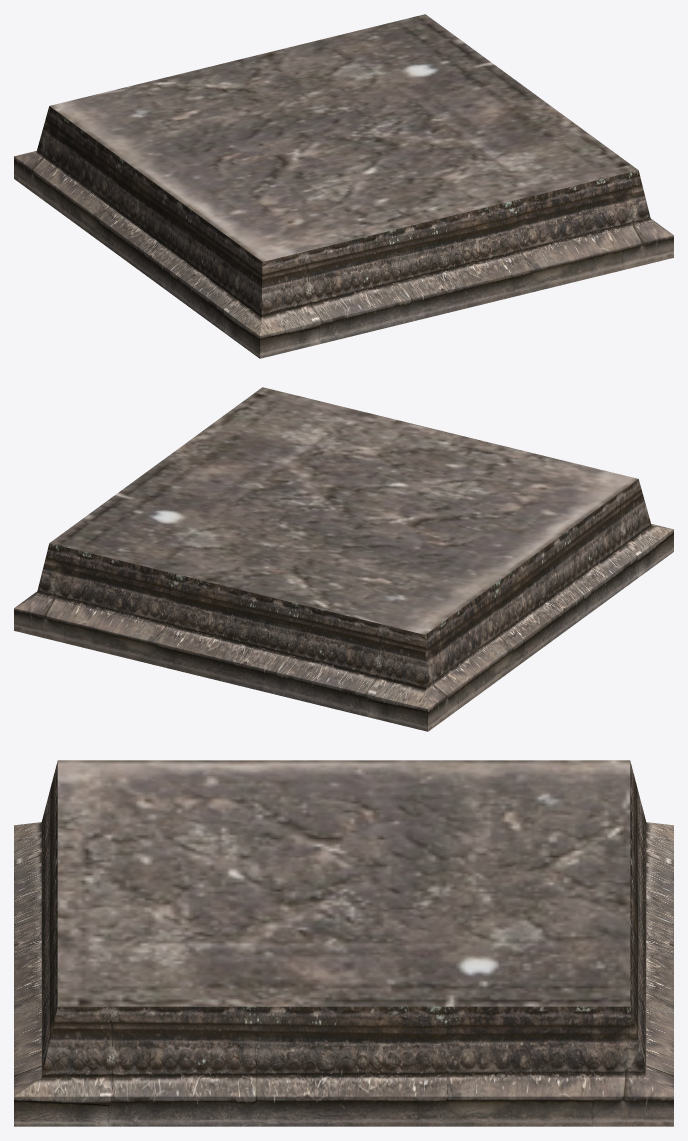
Rendered from pedestal.fbx.
3 views of the same model, one above another, from view 1: azimuth 30°, elevation 25°; view 2: azimuth 150°, elevation 25°; view 3: azimuth 270°, elevation 25° (orthographic). The views are drawn at different scales.
Parts seen in each view (by area): view 1: pedestal; view 2: pedestal; view 3: pedestal.
Part boxes in pixels (left/top/right/bottom): pedestal: left=14, top=14, right=673, bottom=358; pedestal: left=14, top=387, right=673, bottom=731; pedestal: left=14, top=760, right=673, bottom=1126.
Bounding box in the file's own units: 35.96 × 6.66 × 36.98.
1 material, 1 textured.
